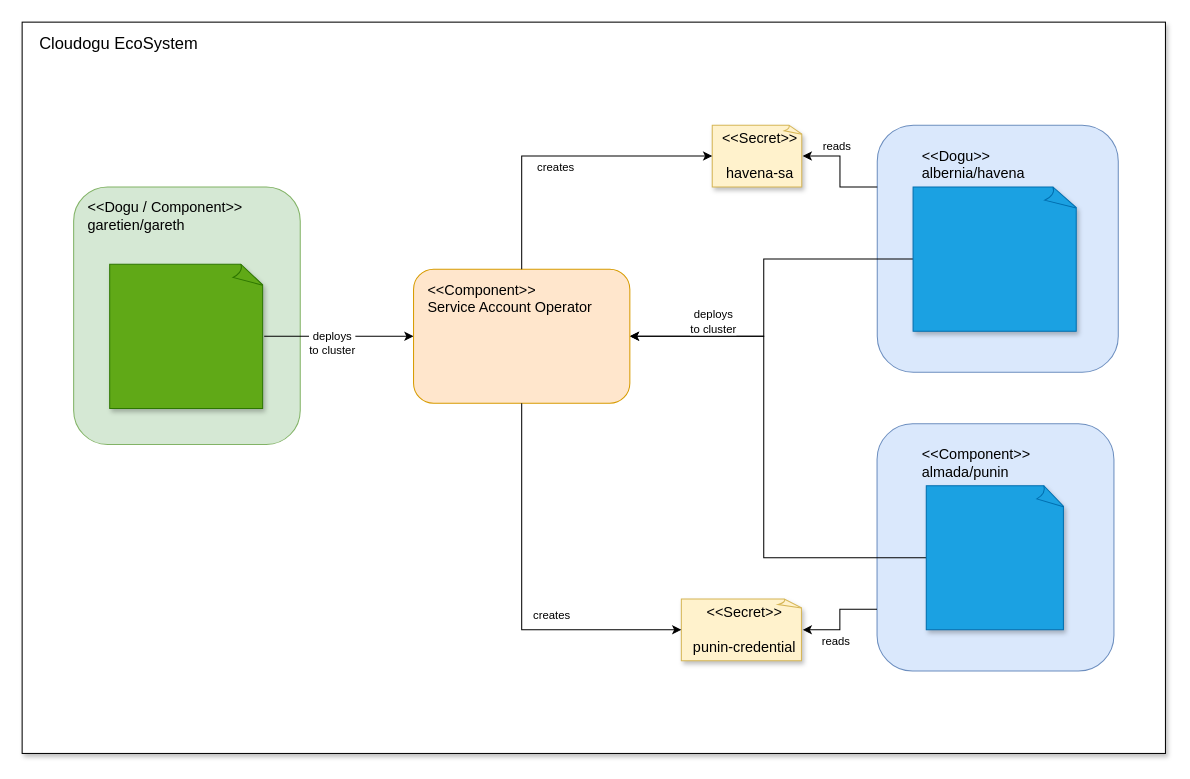
Some shapes in this 1190 by 779 pixel diagram are drawn without their labels. Each missing label, with the centre of its shape:
"SAPR Producer=gareth" belongs at point 187,337.
"SARE Producer=gareth SecretRef=havena-sa" belongs at point 996,260.
"SARE Producer=gareth SecretRef=punin-credential" belongs at point 996,558.
